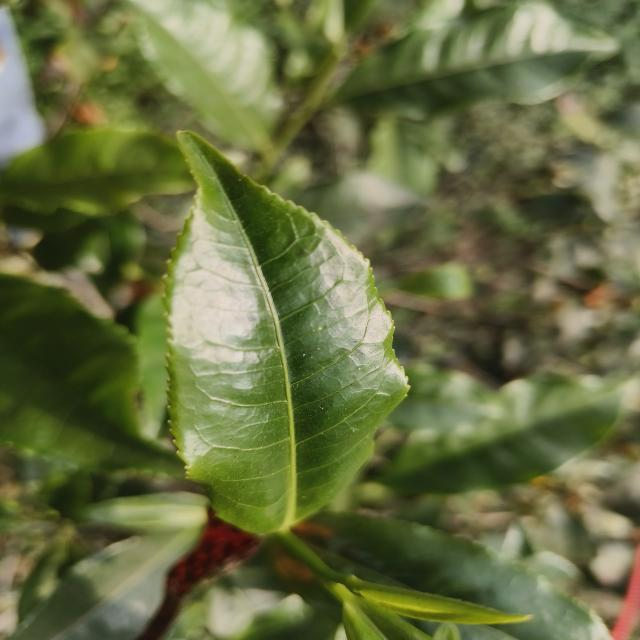Leaf: (167, 132, 406, 534), (302, 512, 609, 640), (0, 274, 181, 473), (334, 0, 618, 118), (379, 376, 621, 494), (129, 0, 282, 152), (12, 524, 201, 640), (0, 129, 193, 216), (343, 575, 530, 624), (387, 364, 505, 438), (367, 116, 439, 195), (84, 492, 206, 532)
